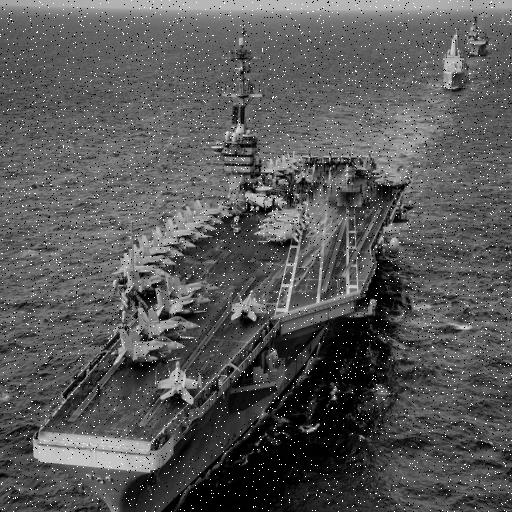Fragata: (442, 16, 471, 107), (468, 1, 492, 62)
Portanaves: (14, 20, 424, 512)
